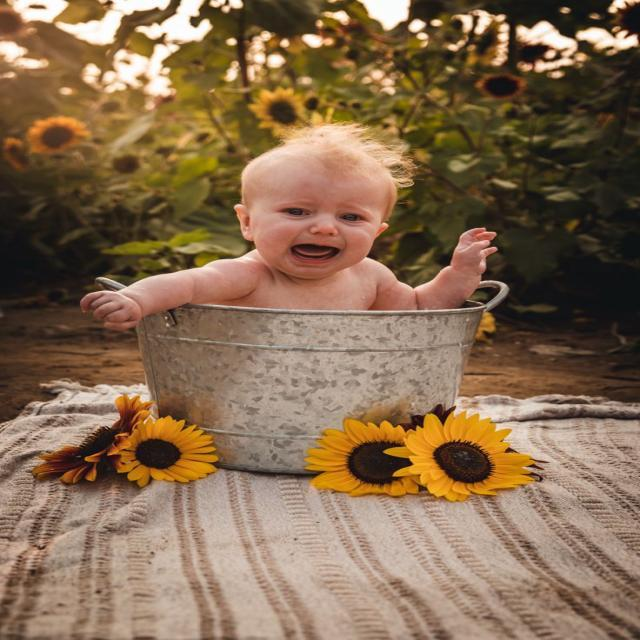sunflower: (384, 408, 536, 502), (30, 392, 155, 484), (302, 418, 420, 498), (112, 414, 218, 487), (247, 85, 306, 138), (26, 115, 90, 155), (474, 72, 527, 100), (606, 0, 638, 41), (468, 32, 500, 66), (90, 96, 134, 120), (1, 136, 28, 170), (474, 310, 496, 342), (110, 152, 140, 174), (190, 126, 218, 144), (299, 91, 322, 111)
